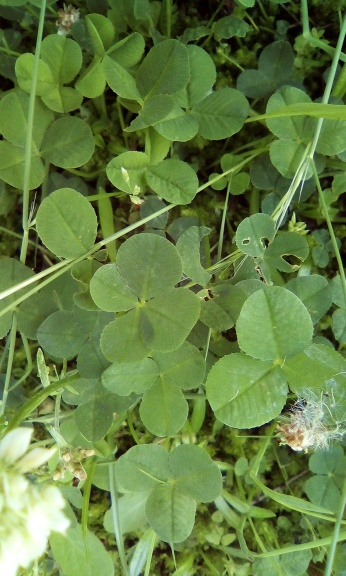4leaf: (88, 233, 202, 364)
